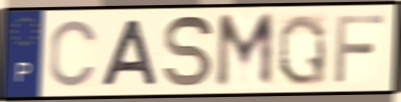A: (98, 17, 161, 89)
C: (47, 17, 101, 90)
F: (332, 12, 387, 85)
M: (213, 10, 277, 91)
Q: (276, 11, 329, 88)
S: (162, 13, 216, 91)
